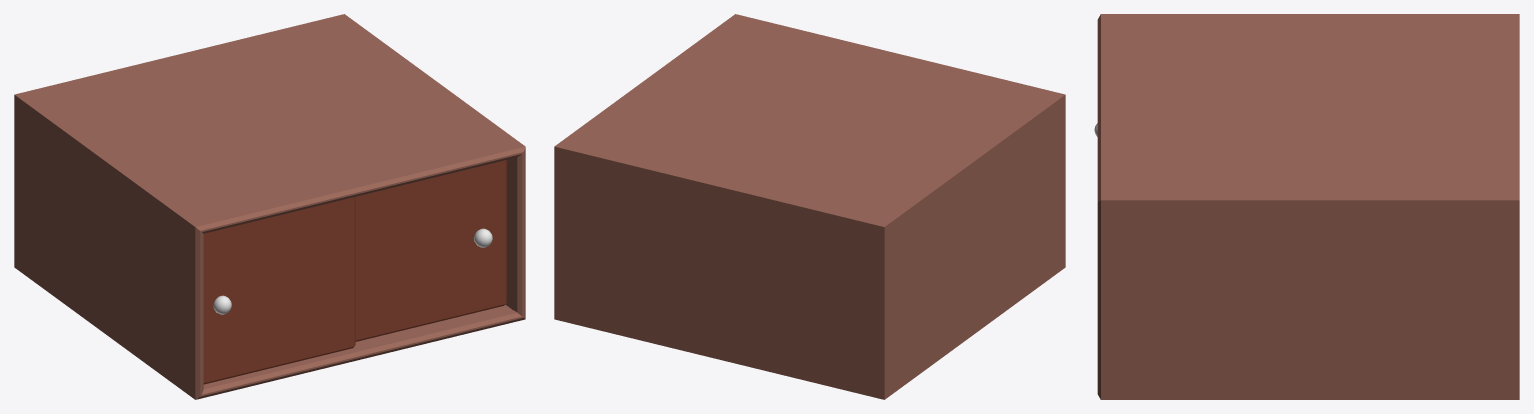
The model's file is closed shelf.fbx.
The picture shows the model from 3 angles, left to right: view 1: azimuth 30°, elevation 25°; view 2: azimuth 150°, elevation 25°; view 3: azimuth 270°, elevation 25°; orthographic projection. The views are drawn at different scales.
Visible parts, largest first — view 1: Cube; view 2: Cube; view 3: Cube.
Boxes of the visible parts, left/top/right/bottom form: Cube: left=14, top=14, right=525, bottom=399; Cube: left=554, top=14, right=1065, bottom=399; Cube: left=1094, top=14, right=1519, bottom=399.
Bounding box in the file's own units: 200 × 100 × 193.
